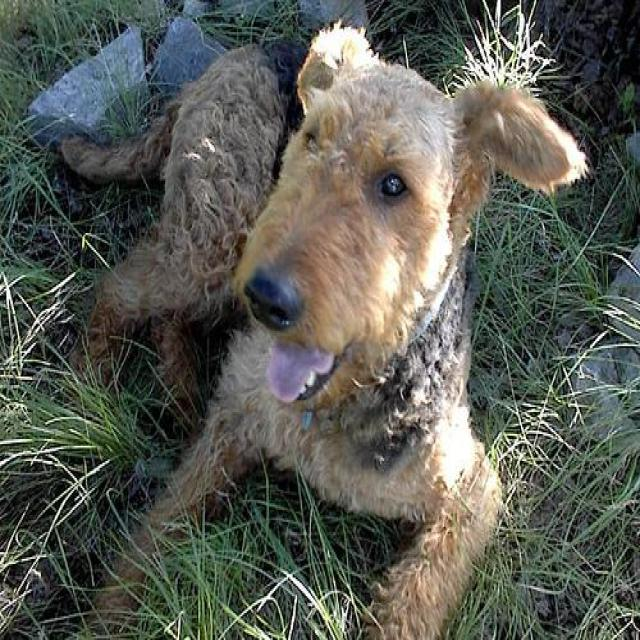airedale: (50, 24, 589, 638)
